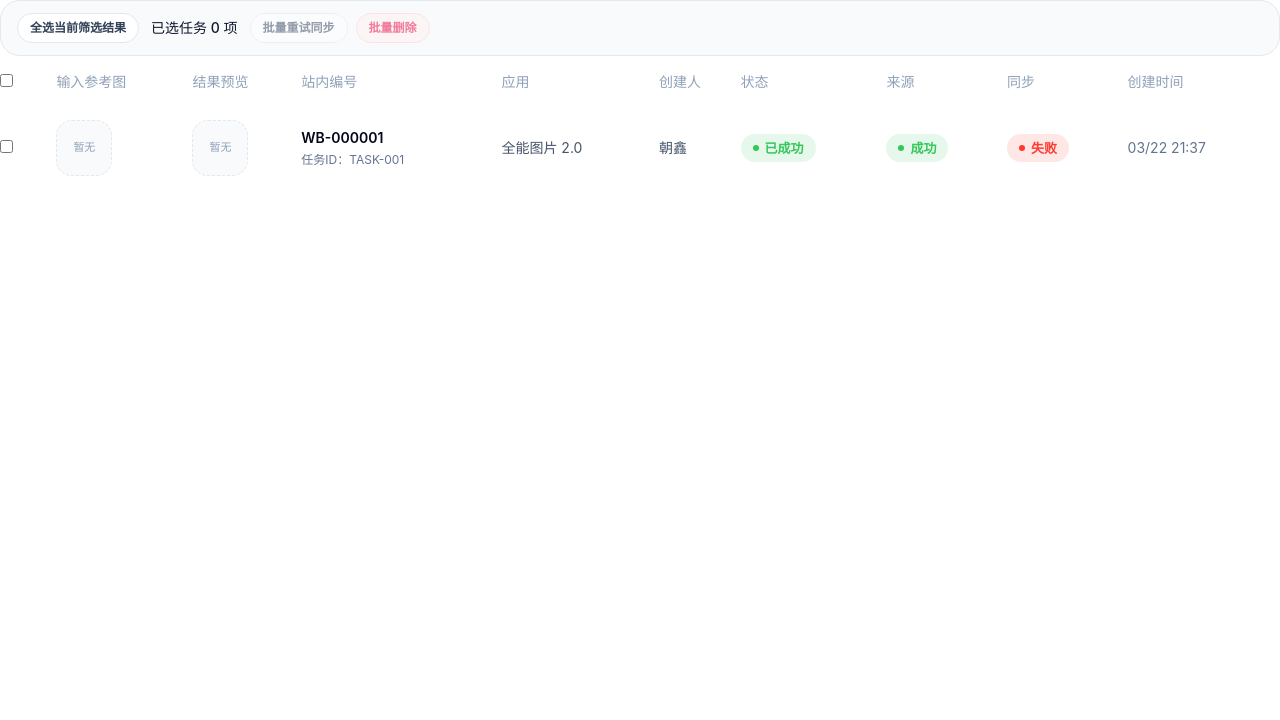
Scenario: AdminTasksClient › removes deleted tasks from the list after bulk delete succeeds
The image size is (1280, 720).
Click the checkbox named "勾选任务 WB-000001": coordinates (6, 146) [0,140,13,153]
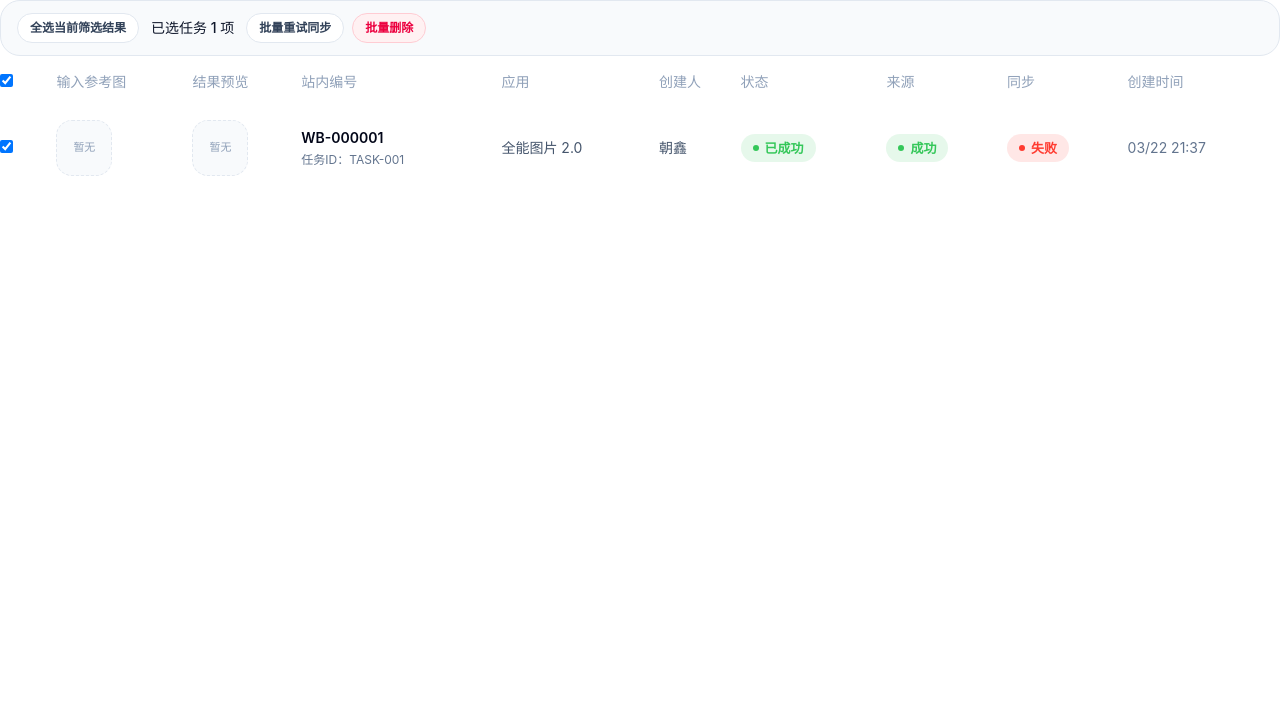
Click the button "批量删除": coordinates (389, 28) [352,13,426,43]
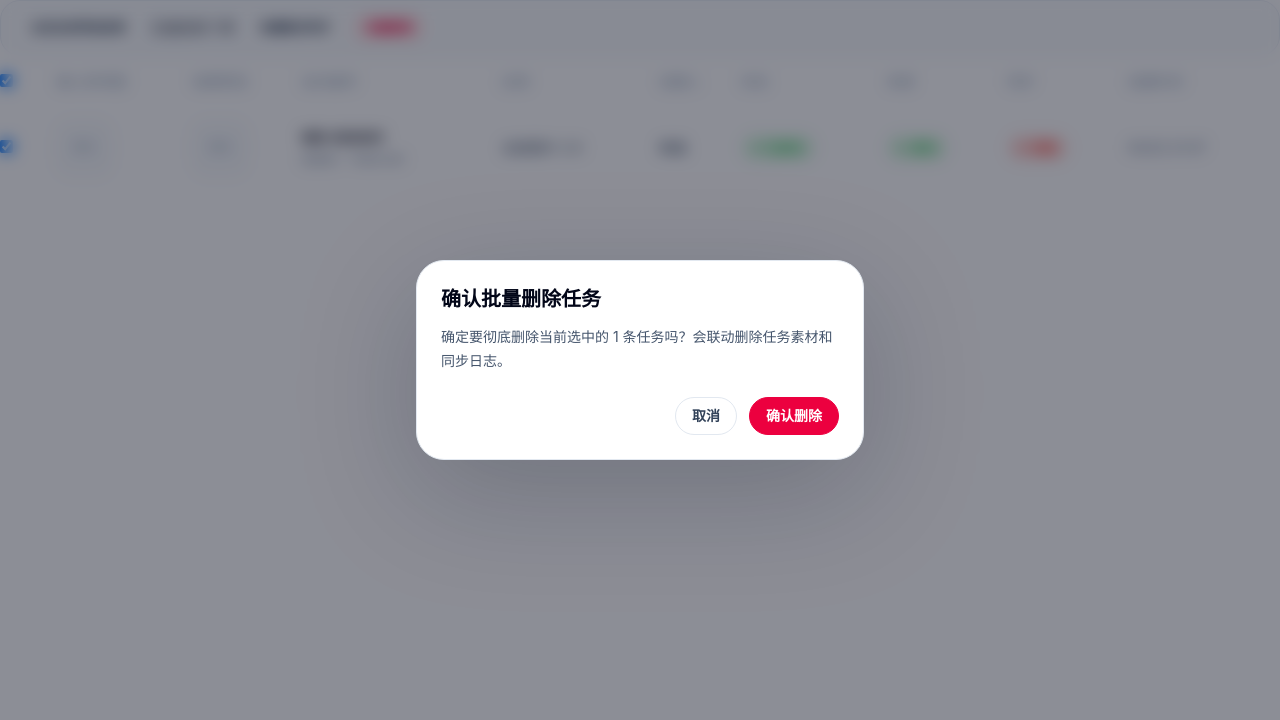
Click the button "确认删除": coordinates (794, 416) [749,397,839,435]
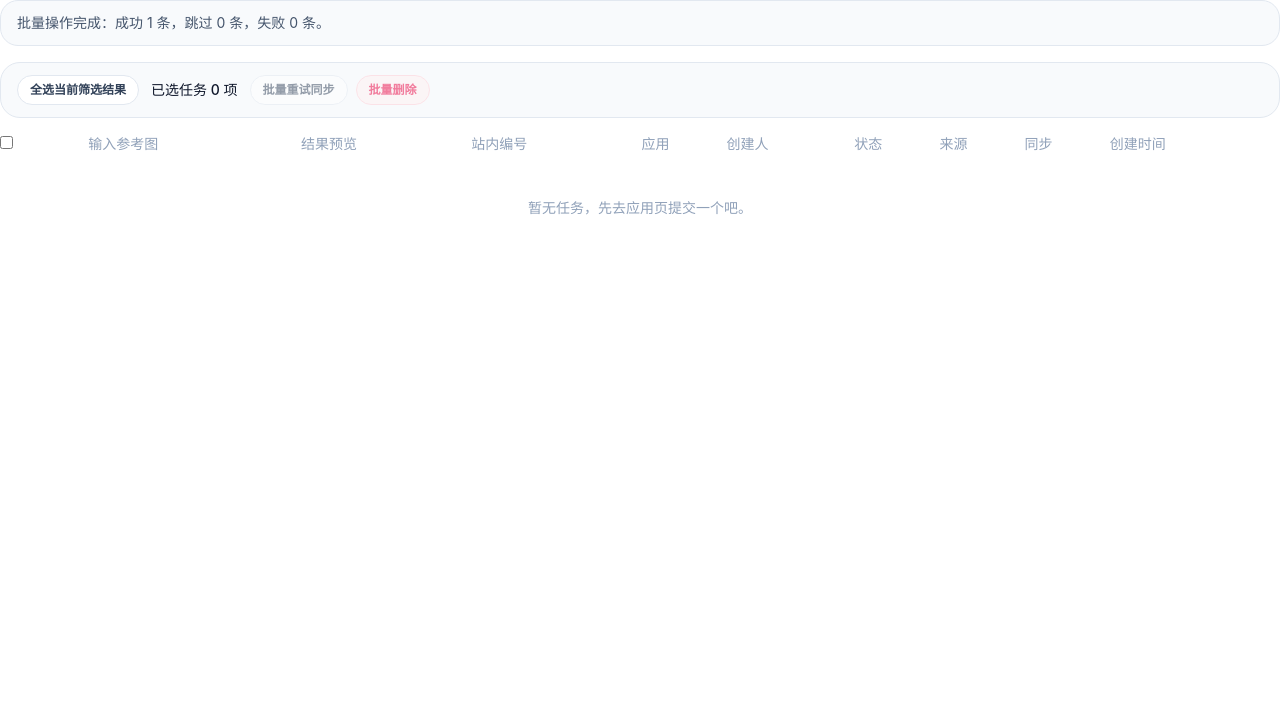
Now the button "WB-000001" is gone
